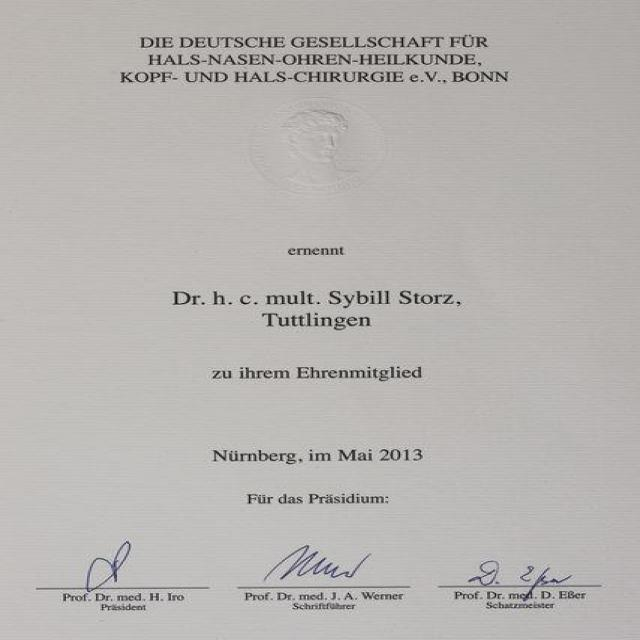signature: (262, 539, 369, 578), (465, 558, 571, 595), (75, 535, 142, 588)
